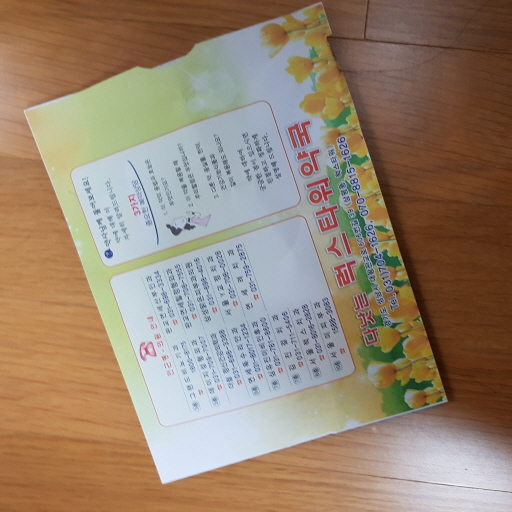Paper_2: (21, 7, 461, 493)
